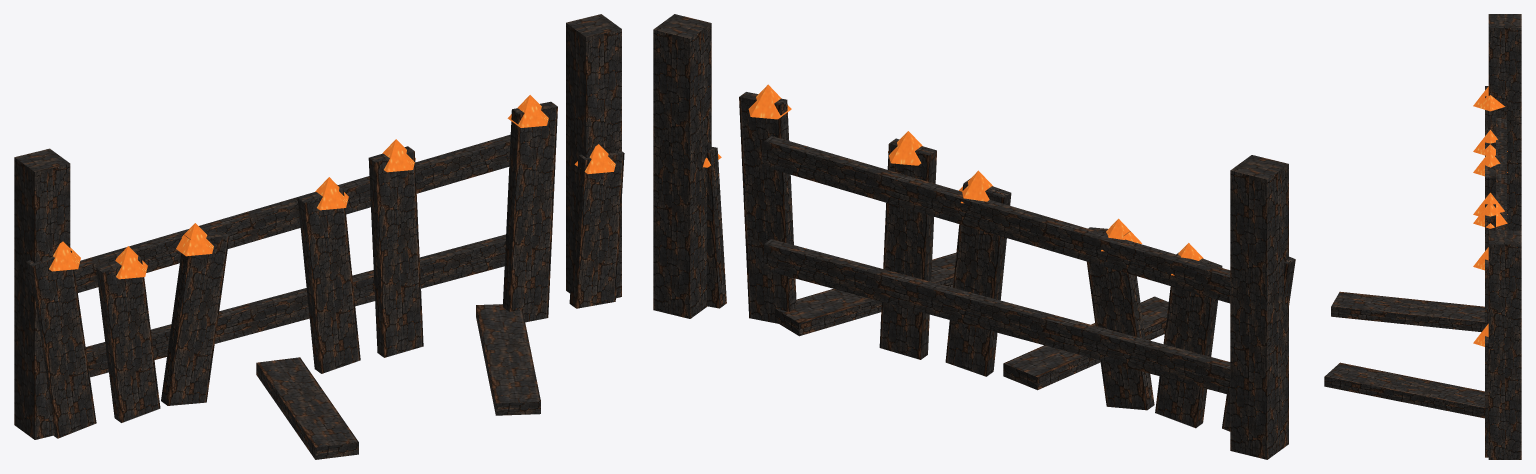
The model's file is charred_fence.glb.
3 renders of one model, left to right at view 1: azimuth 30°, elevation 25°; view 2: azimuth 150°, elevation 25°; view 3: azimuth 270°, elevation 25°, orthographic. The views are drawn at different scales.
Parts seen in each view (by area): view 1: charred_fence_planks, charred_fence_embers; view 2: charred_fence_planks, charred_fence_embers; view 3: charred_fence_planks, charred_fence_embers.
Part boxes in pixels (<box>): charred_fence_planks: <box>14,14,624,459</box>; charred_fence_embers: <box>49,95,615,279</box>; charred_fence_planks: <box>653,14,1295,459</box>; charred_fence_embers: <box>703,84,1203,275</box>; charred_fence_planks: <box>1324,14,1521,459</box>; charred_fence_embers: <box>1473,86,1507,346</box>.
Size of what is drawn, in the model's own units: 3 by 1.31 by 1.08.
Materials: 2 (2 with a texture image).
